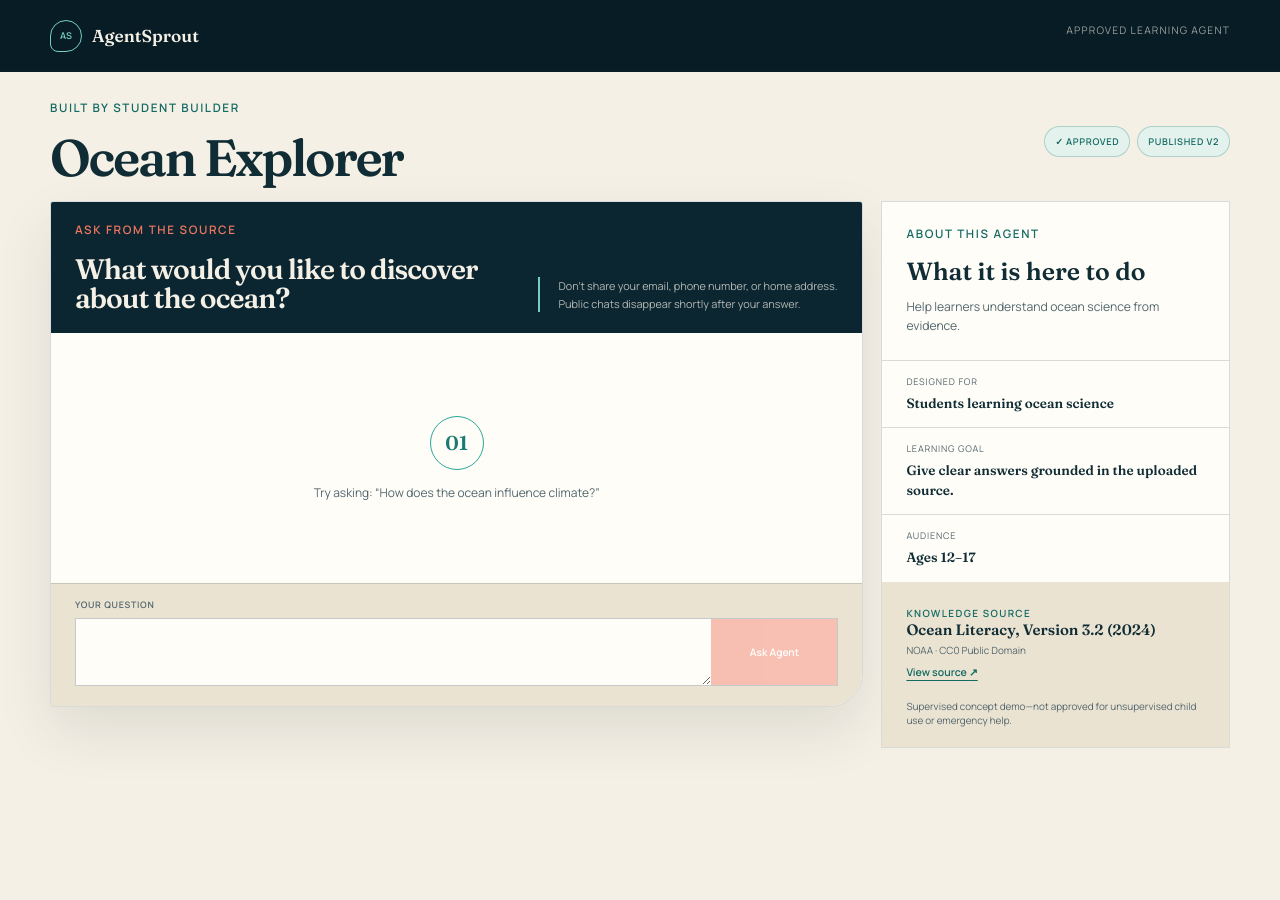
Test: PublishedAgent › renders allowlisted metadata and a validated cited answer
Expected: the heading "Ocean Explorer" is shown, [50,132,402,183]
Expected: the text "✓ Approved" is shown, [1044,126,1130,157]
Type "How does the ocean affect climate?" into the text box labelled "Your question" at (394, 652), box [76,619,711,685]
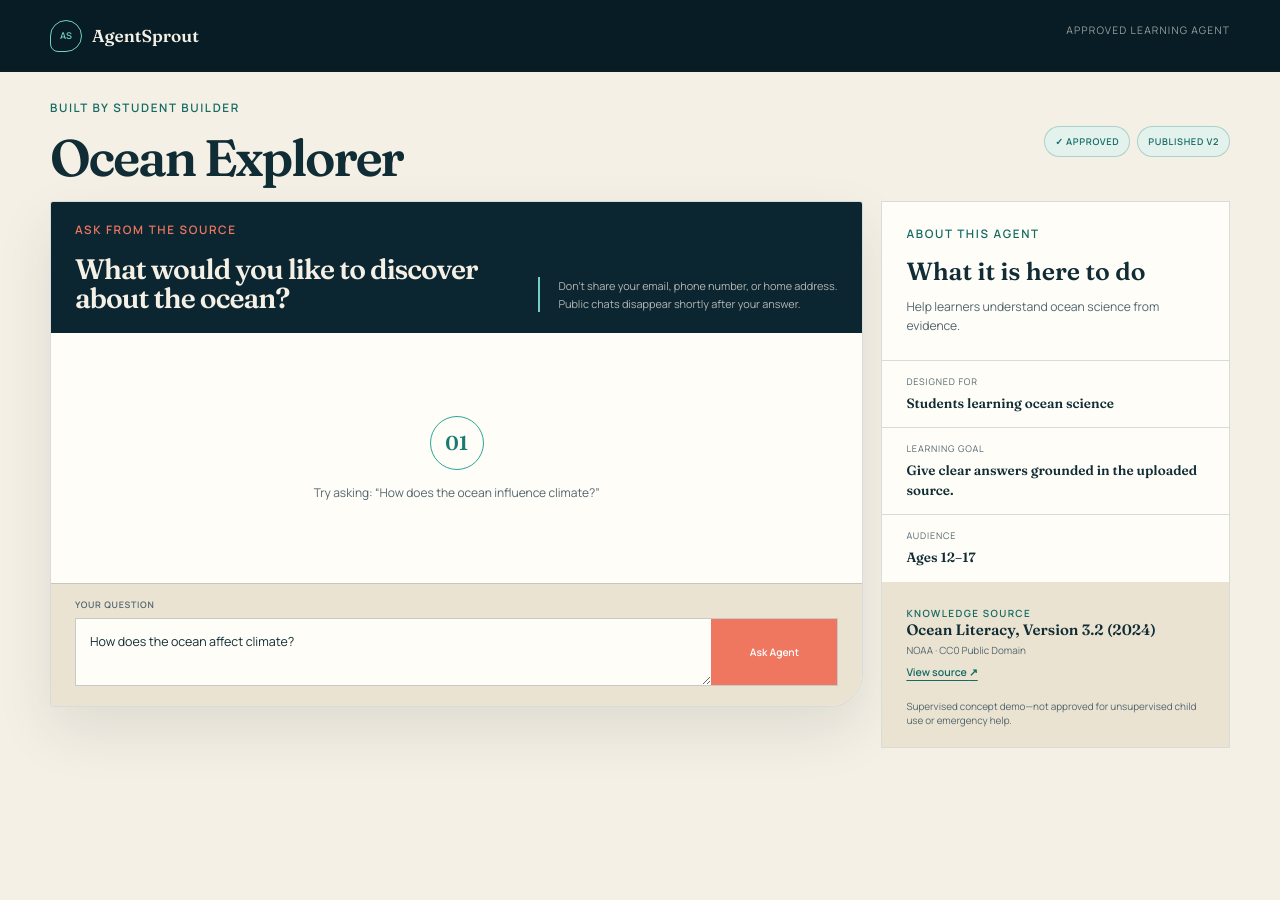
Click the button "Ask Agent" at (774, 652), box [711,619,837,685]
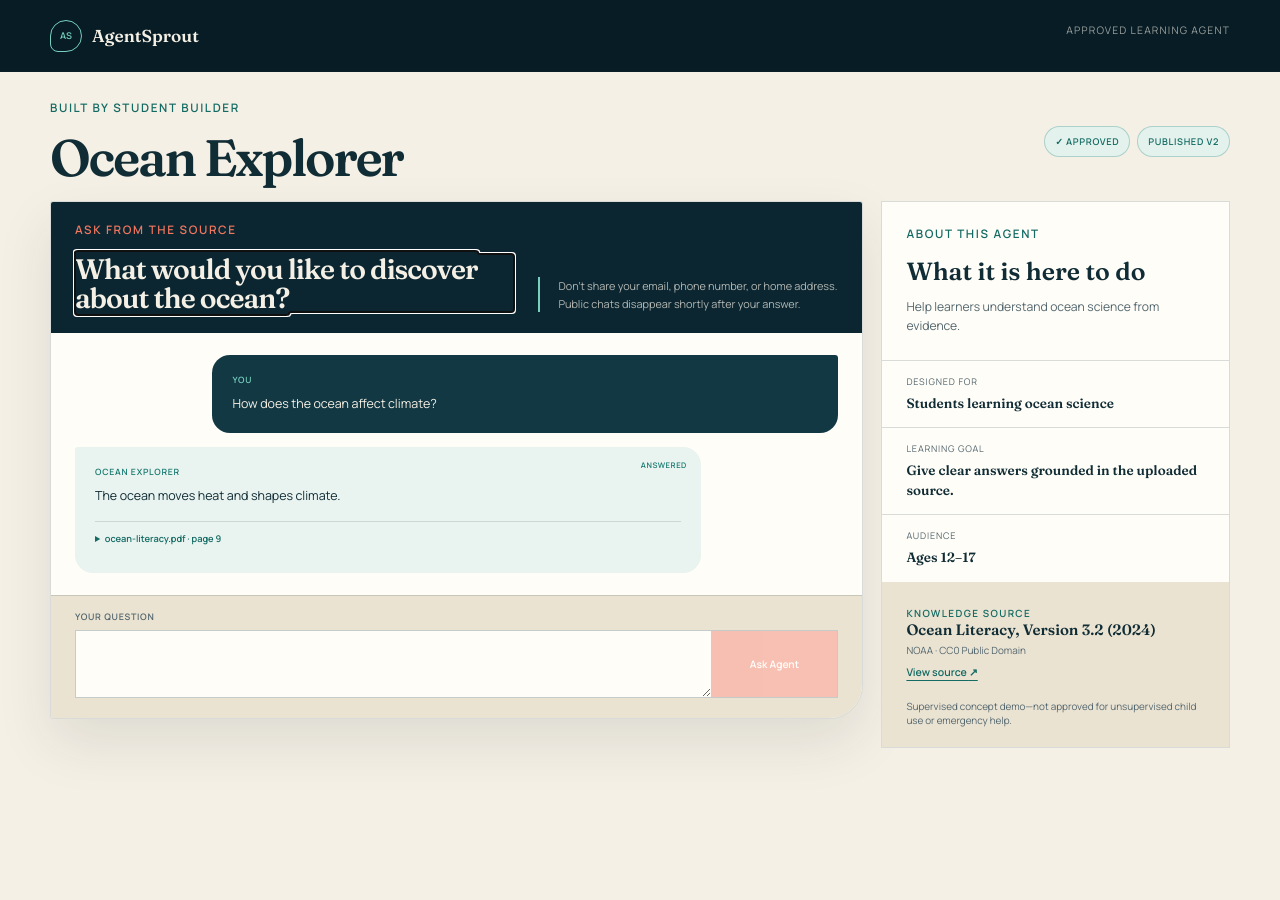
Now the text "The ocean moves heat and shapes climate." is shown, box [95,487,340,504]
Click the heading "ocean-literacy.pdf · page 9" at (163, 538), box [105,532,221,545]
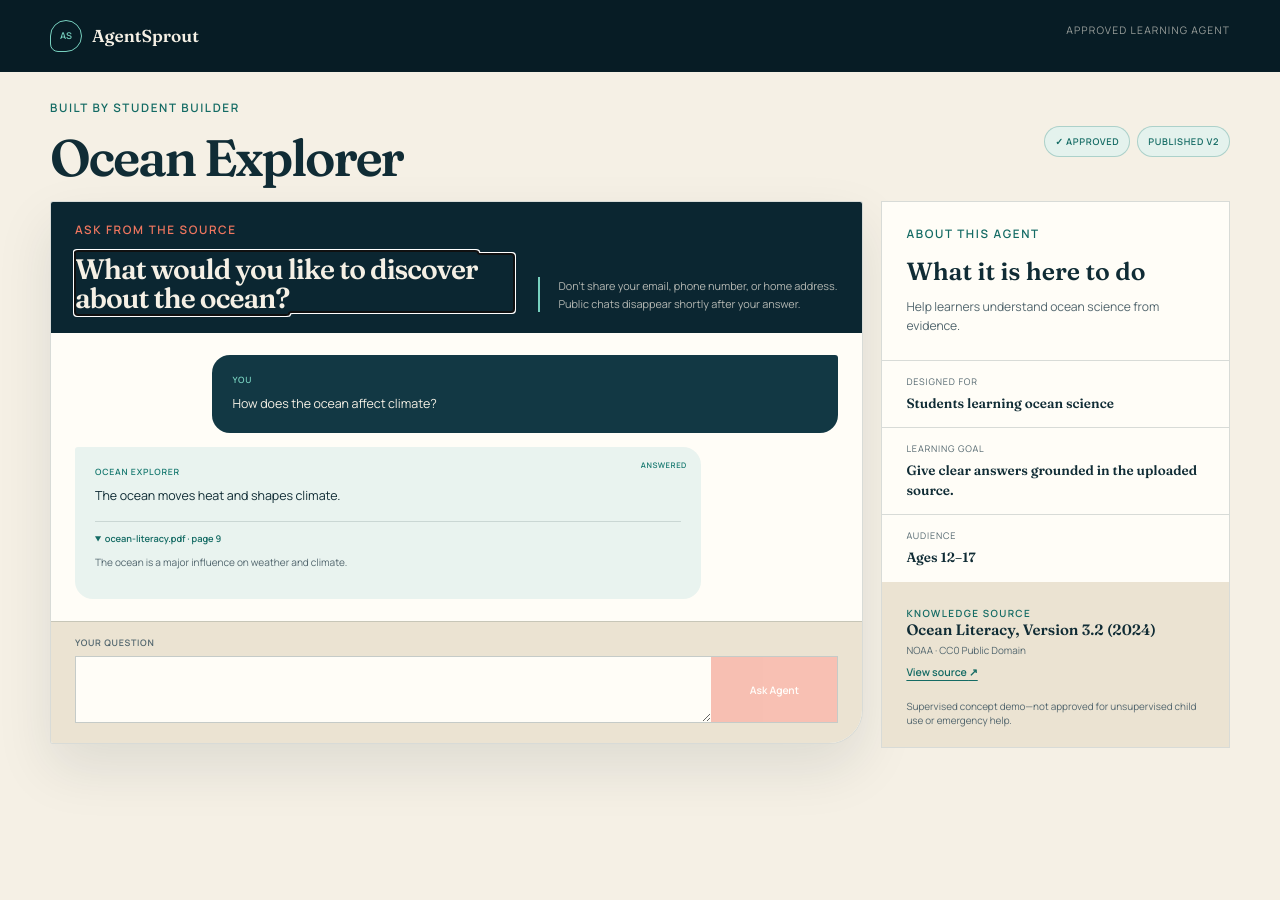
Now the text "The ocean is a major influence on weather and climate." is shown, box [95,555,347,569]
